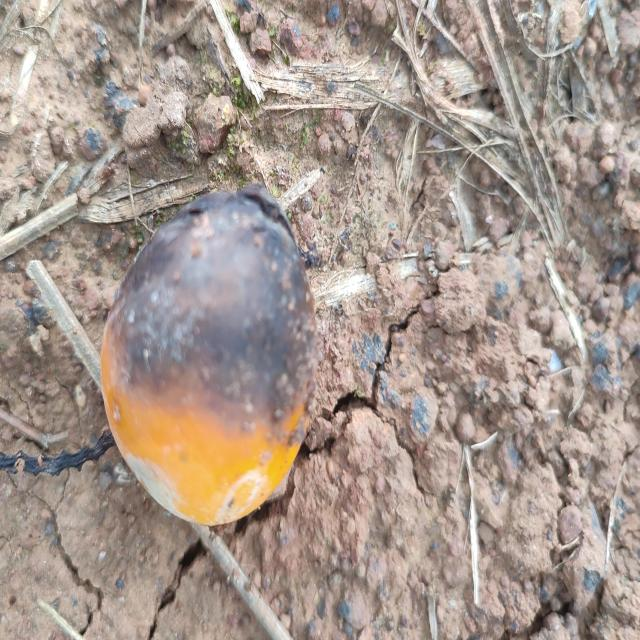damaged: (98, 184, 318, 530)
